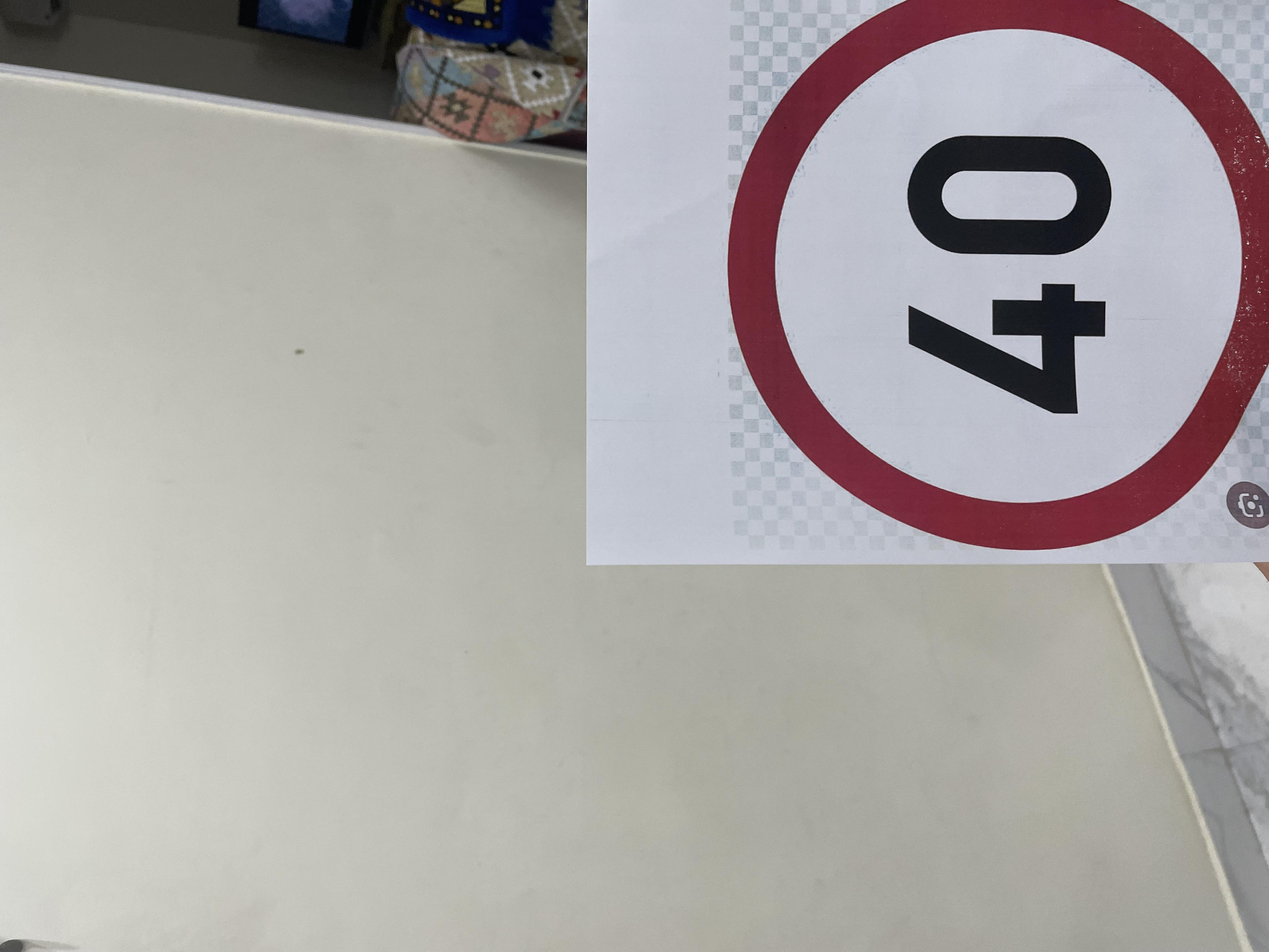40-Speed: (534, 525, 1269, 952)
